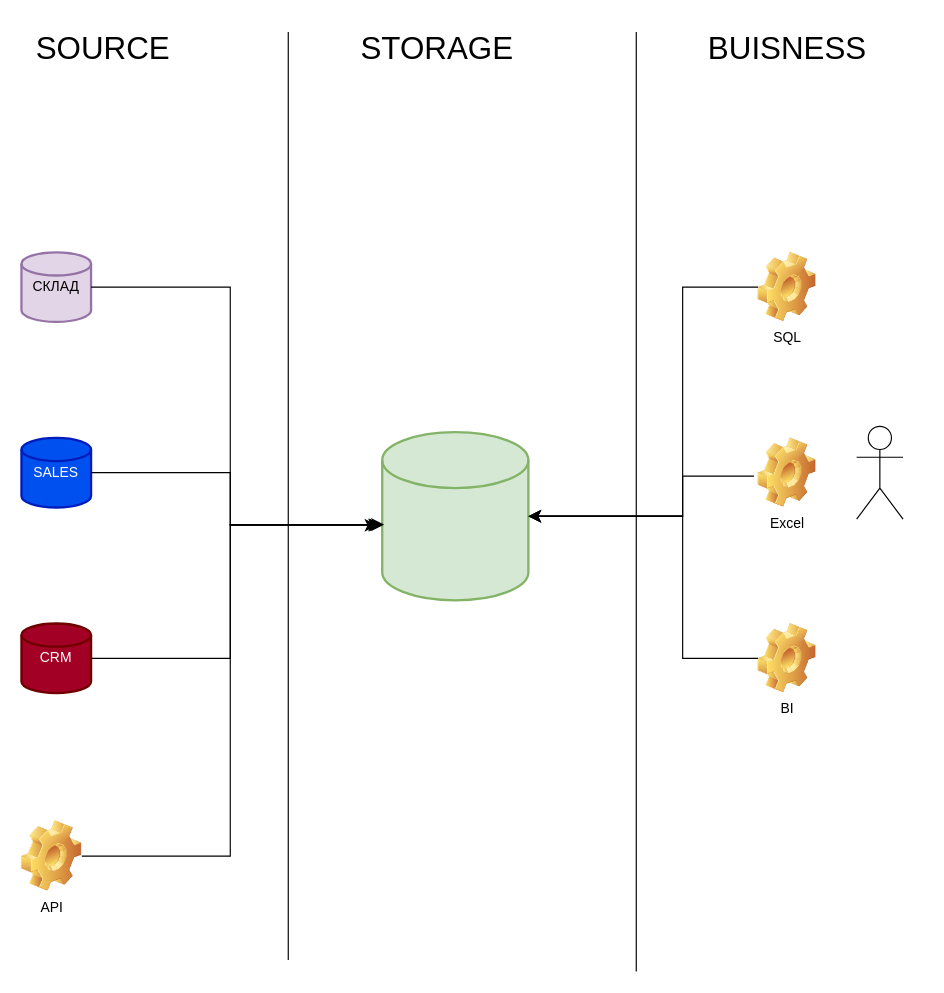
This 944x993 diagram has some shape labels left out. The centre of each missing label's shape, as x and y in pixels:
Пользователь: (879,472)
Хранилище данных: (454,515)
